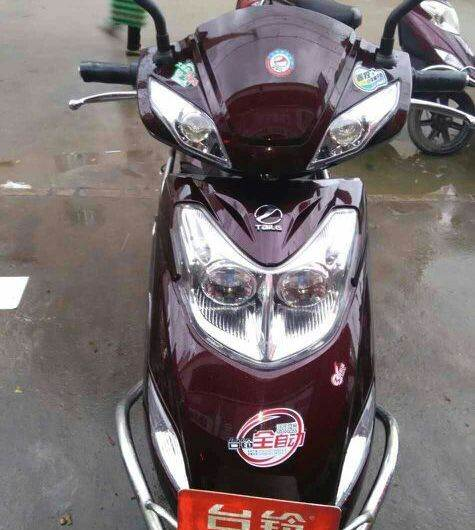电动车: (65, 1, 427, 521)
